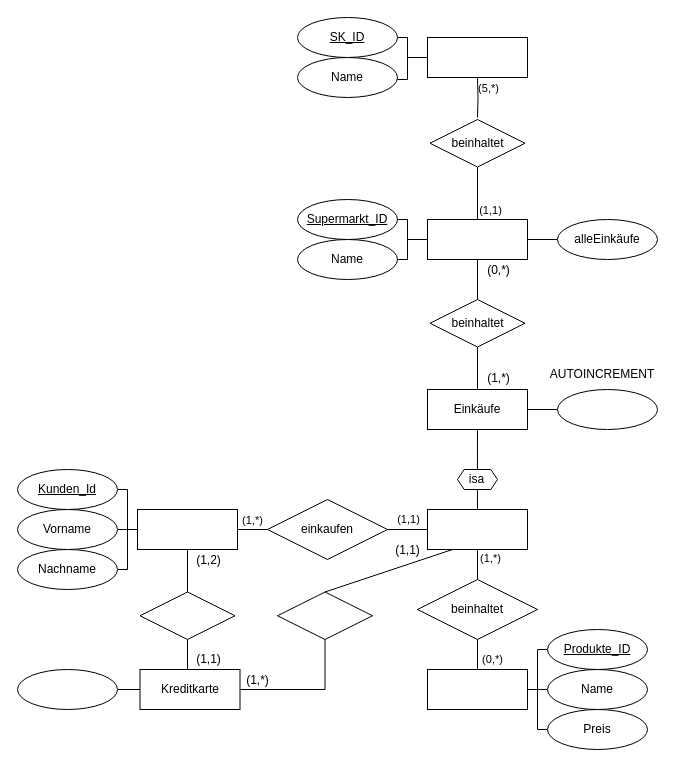
The diagram is 675 pixels wide and 767 high, and some of its shapes have lost their labels. Here are the shapes that lost their labels. From the top down, the centre of each, then its label:
At point 477,57: "Supermarktkette".
At point 477,239: "Supermarkt".
At point 607,409: "Einkäufe_ID".
At point 187,529: "Kunde".
At point 477,529: "Einkauf".
At point 187,615: "besitzt".
At point 324,615: "Zahlung".
At point 67,689: "Kreditkarte_ID".
At point 477,689: "Prdukte".
